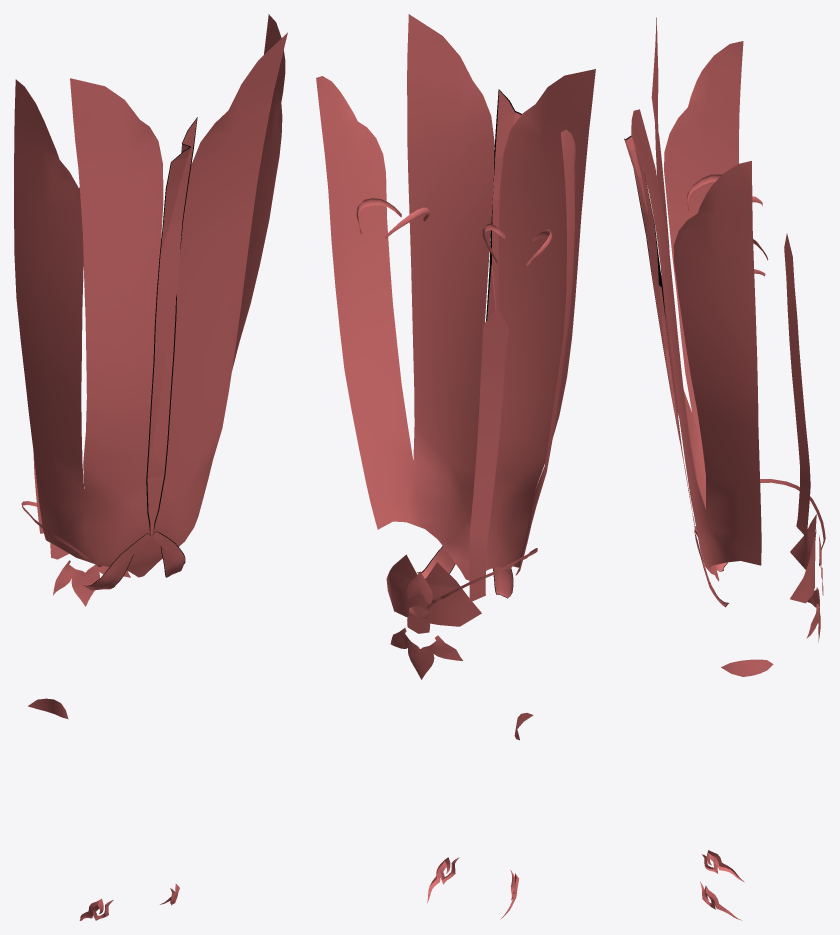
Rendered from body2_N.fbx.
3 renders of one model, left to right at view 1: azimuth 30°, elevation 25°; view 2: azimuth 150°, elevation 25°; view 3: azimuth 270°, elevation 25°, orthographic. The views are drawn at different scales.
Parts seen in each view (by area): view 1: body2; view 2: body2; view 3: body2.
Boxes of the visible parts, x1,y1,x2,y2 form: body2: [14, 14, 287, 920]; body2: [316, 14, 595, 919]; body2: [624, 17, 825, 920].
Size of the model in its own units: 48.36 by 158 by 34.04.
